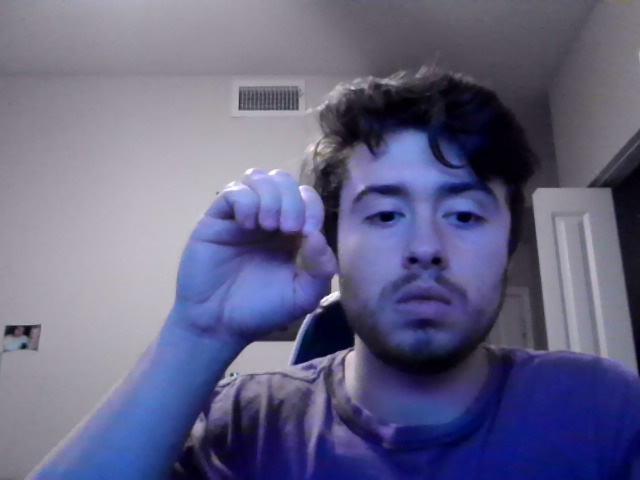o: (175, 167, 336, 362)
